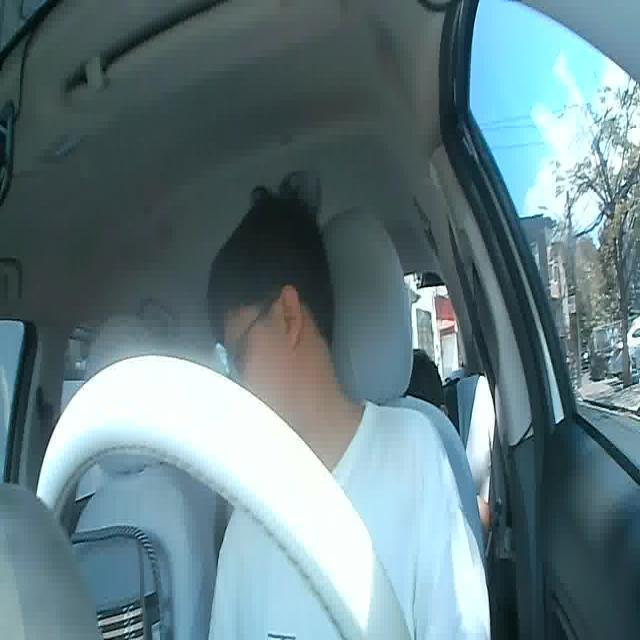Eye-Close: (229, 348, 254, 368)
Inattentive: (205, 196, 336, 438)
